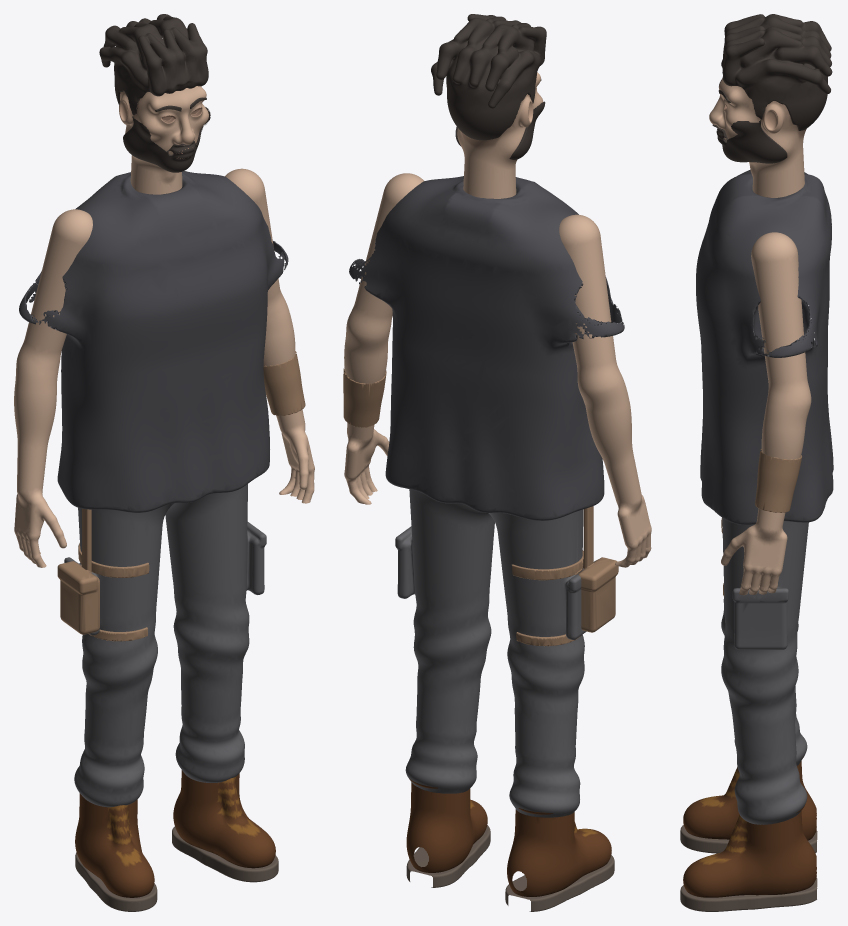
The model's file is pawan.glb.
3 renders of one model, left to right at view 1: azimuth 30°, elevation 25°; view 2: azimuth 150°, elevation 25°; view 3: azimuth 270°, elevation 25°, orthographic. The views are drawn at different scales.
Parts seen in each view (by area): view 1: shirt, pants, skin_armR, boots, hair, skin_armL, head, holster, soles, beard, bracer; view 2: shirt, pants, skin_armR, boots, hair, skin_armL, holster, head, soles, bracer; view 3: shirt, pants, skin_armL, boots, hair, head, soles, bracer, beard.
Boxes of the visible parts, x1,y1,x2,y2 form: shirt: (19, 171, 288, 512); pants: (64, 484, 266, 807); skin_armR: (14, 209, 92, 567); boots: (75, 770, 275, 897); hair: (99, 14, 208, 115); skin_armL: (225, 168, 314, 503); head: (119, 86, 208, 194); holster: (57, 508, 149, 641); soles: (75, 826, 278, 911); beard: (123, 107, 210, 172); bracer: (263, 351, 305, 415); shirt: (349, 176, 624, 520); pants: (395, 489, 595, 817); skin_armR: (559, 214, 651, 567); boots: (406, 779, 611, 896); hair: (431, 14, 546, 140); skin_armL: (344, 173, 424, 504); holster: (512, 506, 618, 646); head: (457, 72, 543, 198); soles: (406, 825, 614, 911); bracer: (343, 367, 386, 427); shirt: (696, 170, 833, 524); pants: (721, 518, 808, 824); skin_armL: (721, 232, 811, 595); boots: (683, 757, 816, 897); hair: (721, 14, 832, 130); head: (709, 78, 806, 197); soles: (680, 825, 817, 911); bracer: (755, 449, 802, 512); beard: (712, 119, 787, 163).
Bounding box in the file's own units: 0.6544 × 1.83 × 0.2997.
